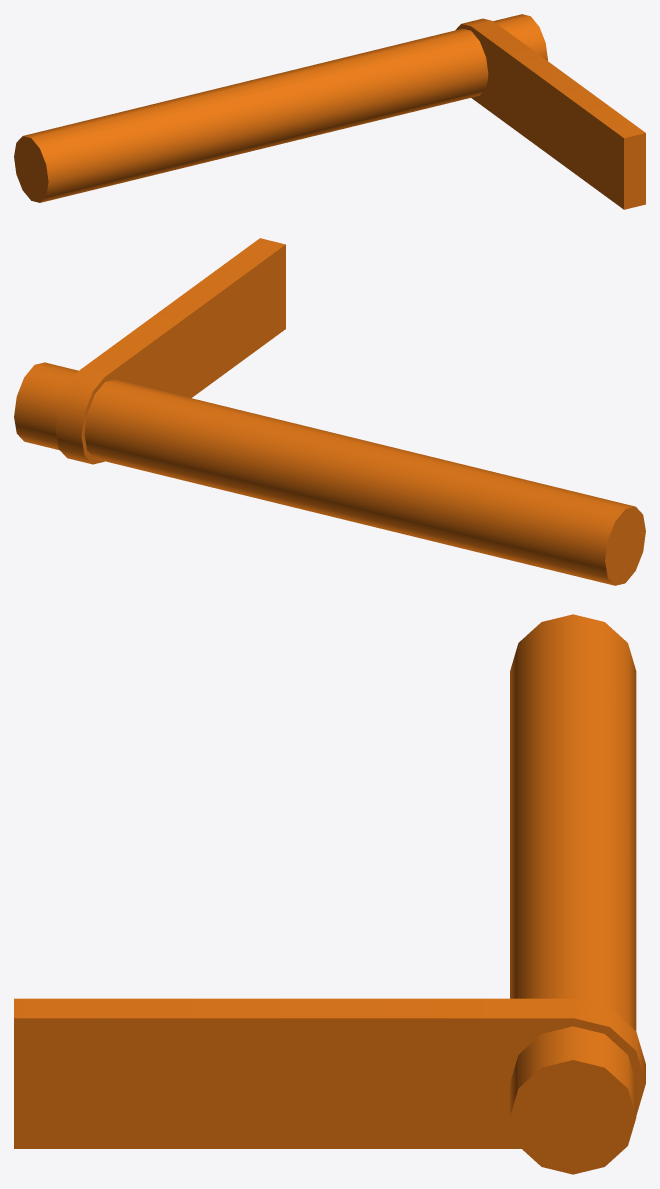
File: Pipe_1m_01_mesh.fbx
The picture shows the model from 3 angles, top to bottom: view 1: azimuth 30°, elevation 25°; view 2: azimuth 150°, elevation 25°; view 3: azimuth 270°, elevation 25°; orthographic projection. The views are drawn at different scales.
Visible parts, largest first — view 1: Cylinder.011; view 2: Cylinder.011; view 3: Cylinder.011.
Boxes of the visible parts, x1,y1,x2,y2 form: Cylinder.011: (14, 14, 645, 209); Cylinder.011: (14, 238, 645, 585); Cylinder.011: (14, 614, 645, 1174).
Bounding box in the file's own units: 13.68 × 100 × 59.93.
